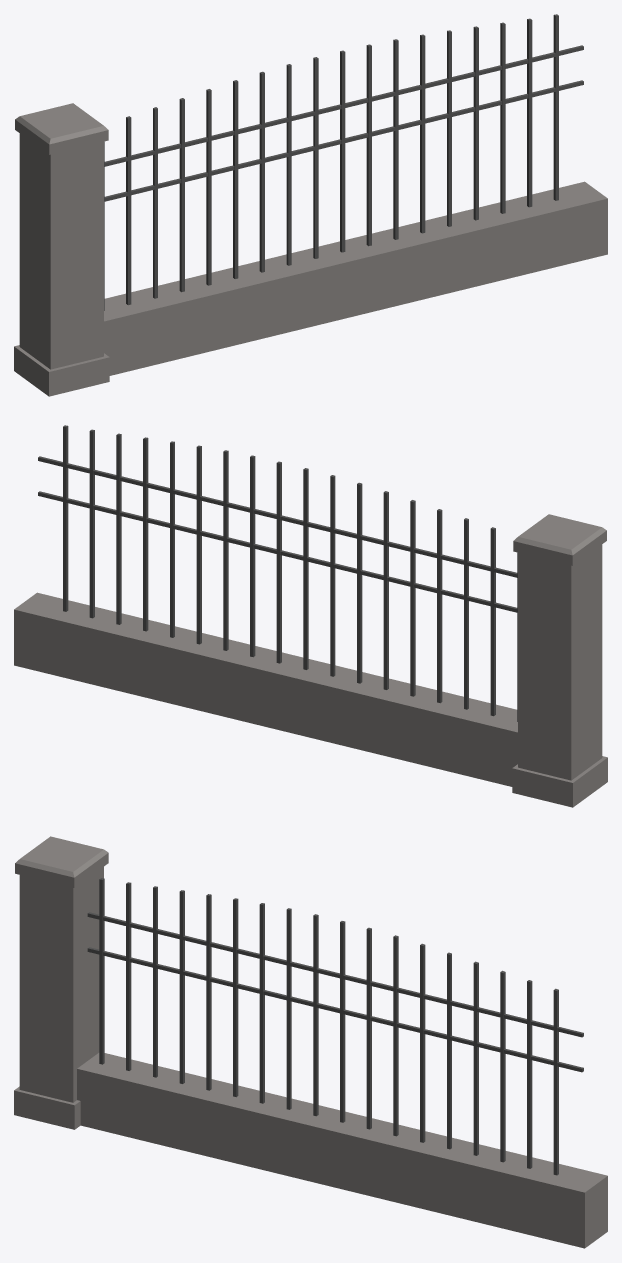
File: Fence_03.glb
3 renders of one model, top to bottom at view 1: azimuth 30°, elevation 25°; view 2: azimuth 150°, elevation 25°; view 3: azimuth 330°, elevation 25°, orthographic.
Visible parts, largest first — view 1: Fence_03; view 2: Fence_03; view 3: Fence_03.
Part boxes in pixels (bbox=[...]): Fence_03: bbox=[14, 14, 607, 396]; Fence_03: bbox=[14, 425, 607, 807]; Fence_03: bbox=[14, 836, 607, 1248].
Size of the model in its own units: 4.23 by 1.83 by 0.4543.
1 material, 1 textured.
